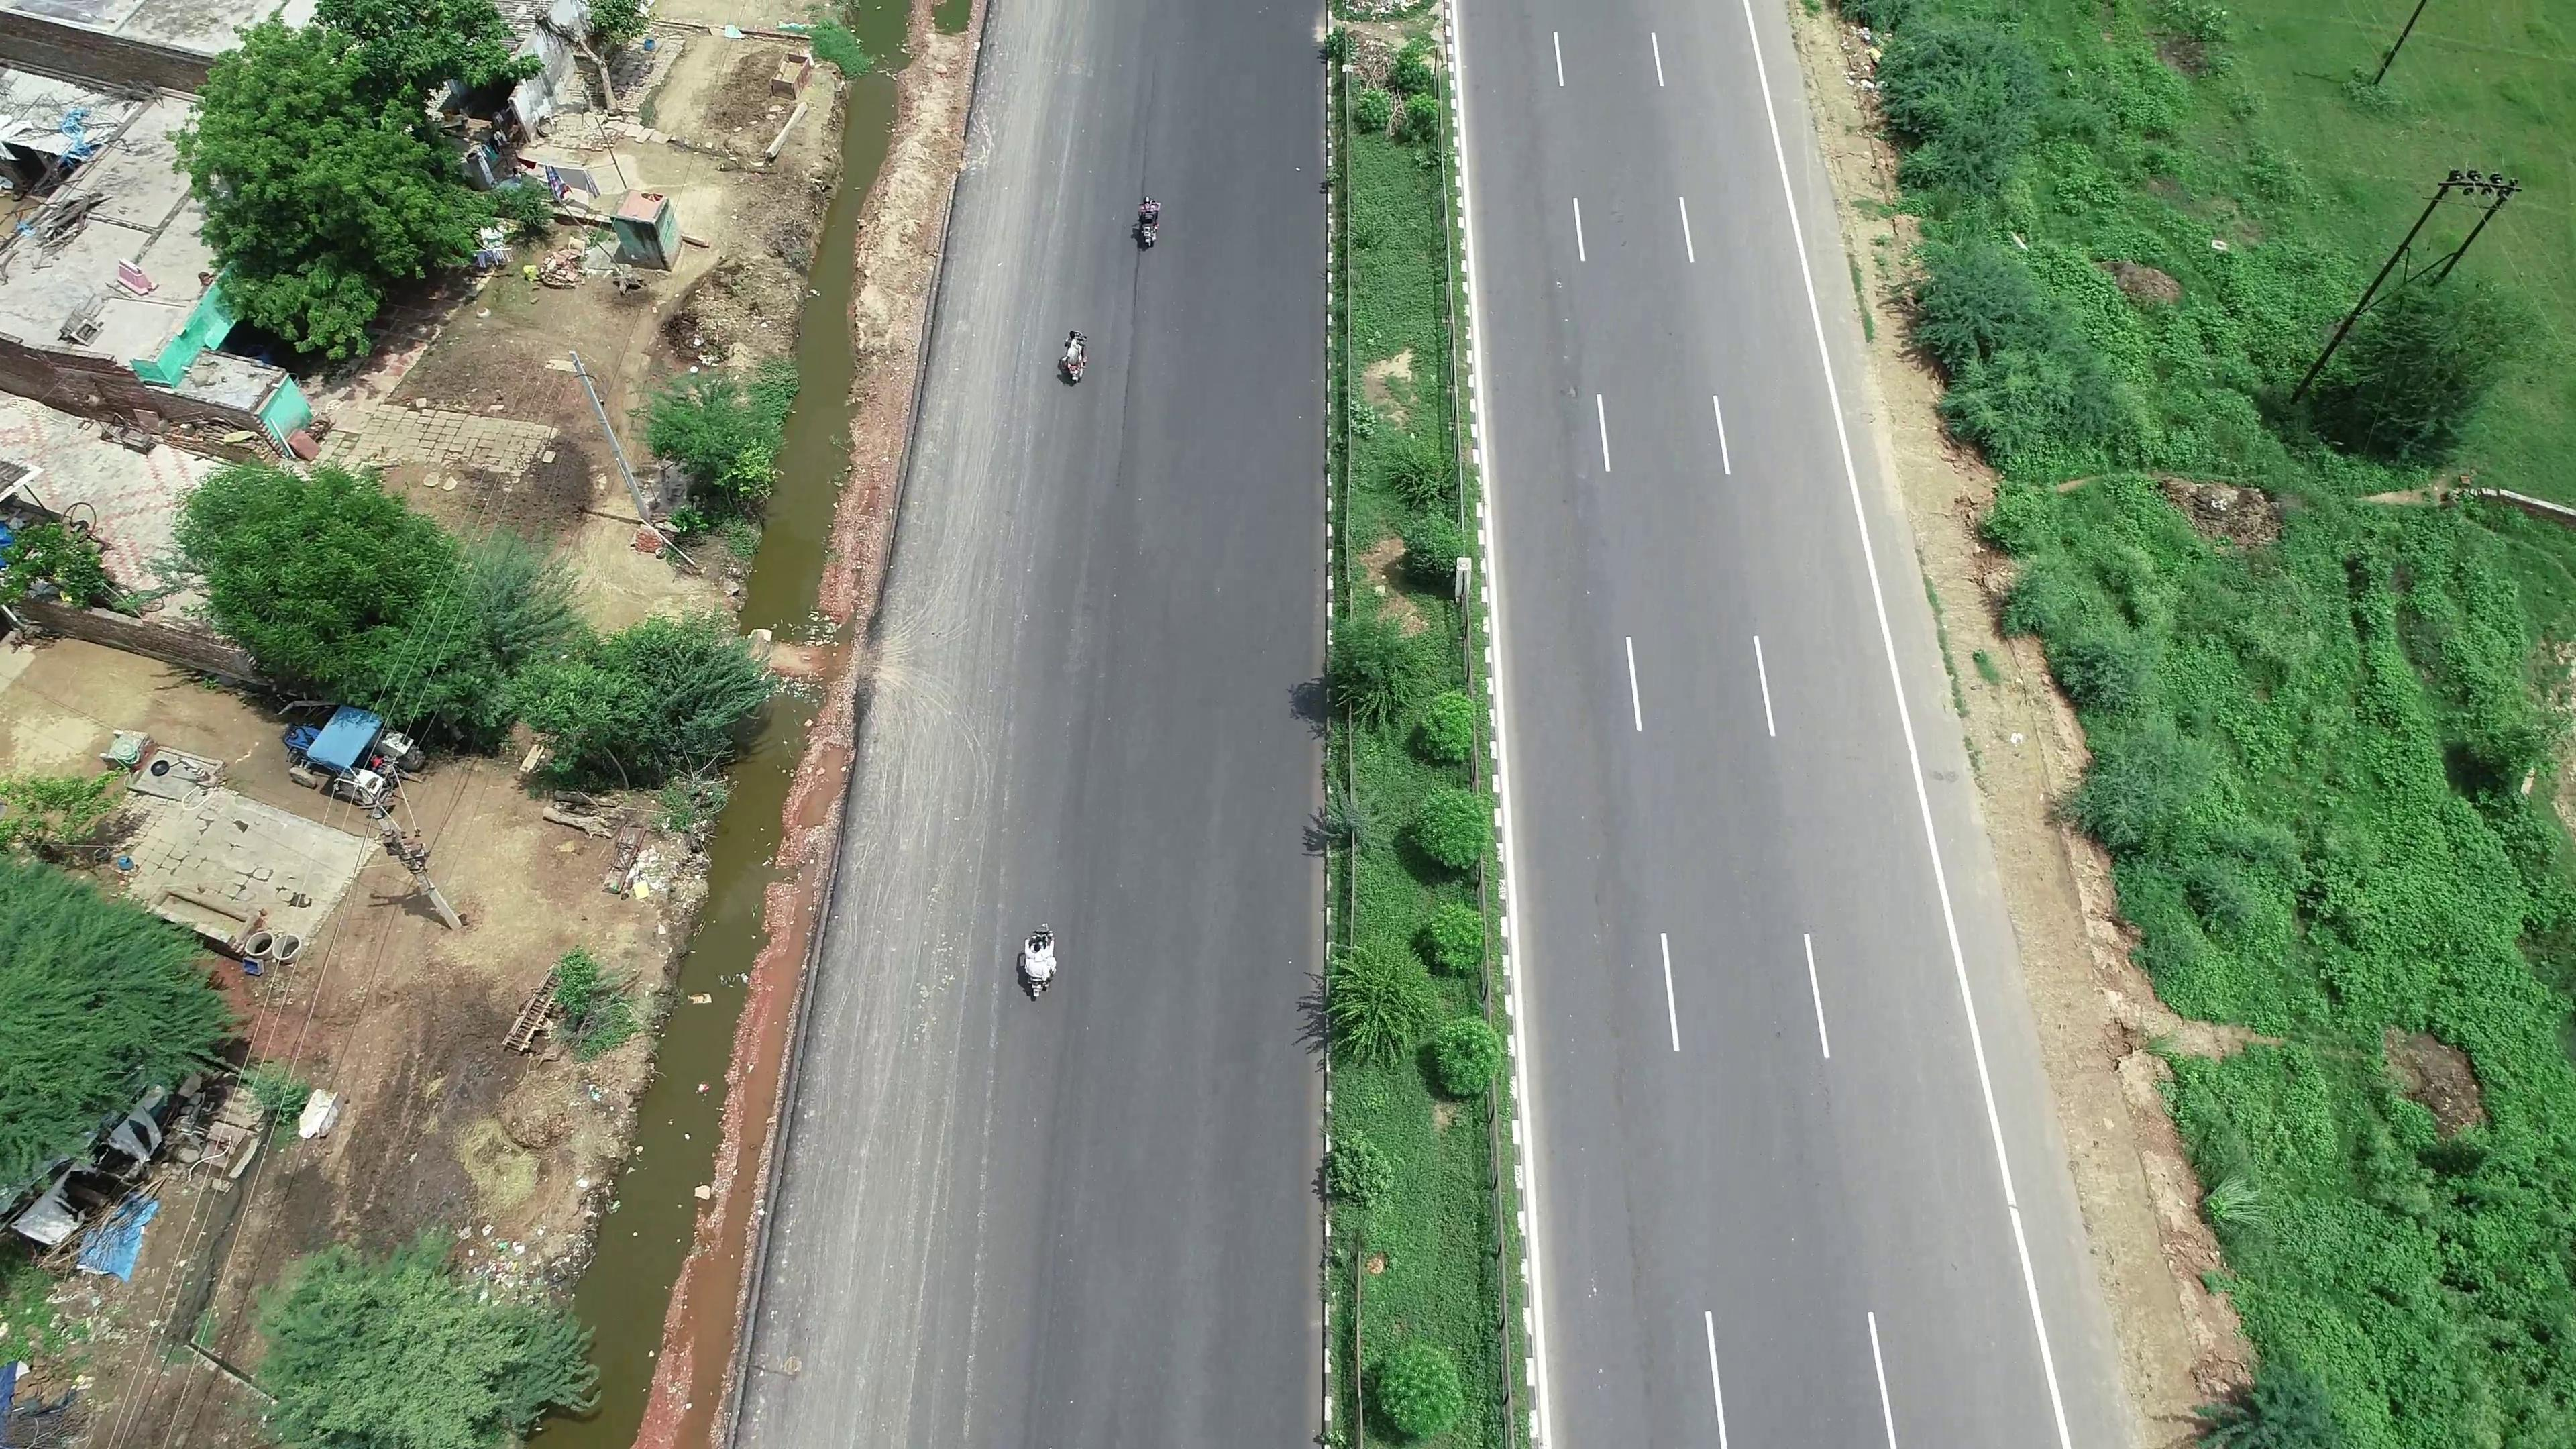Potholes: (1546, 269, 1580, 428)
